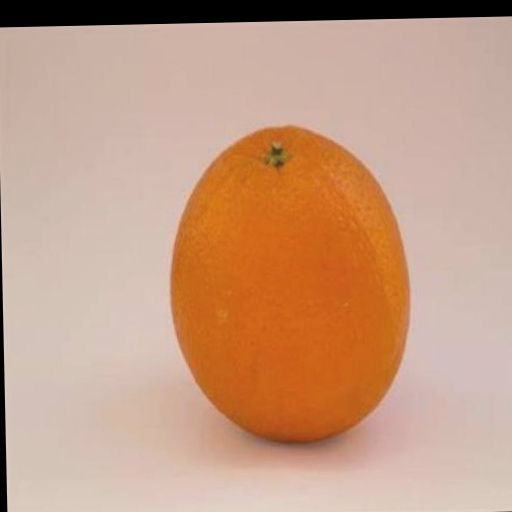fruit: (171, 127, 409, 441)
